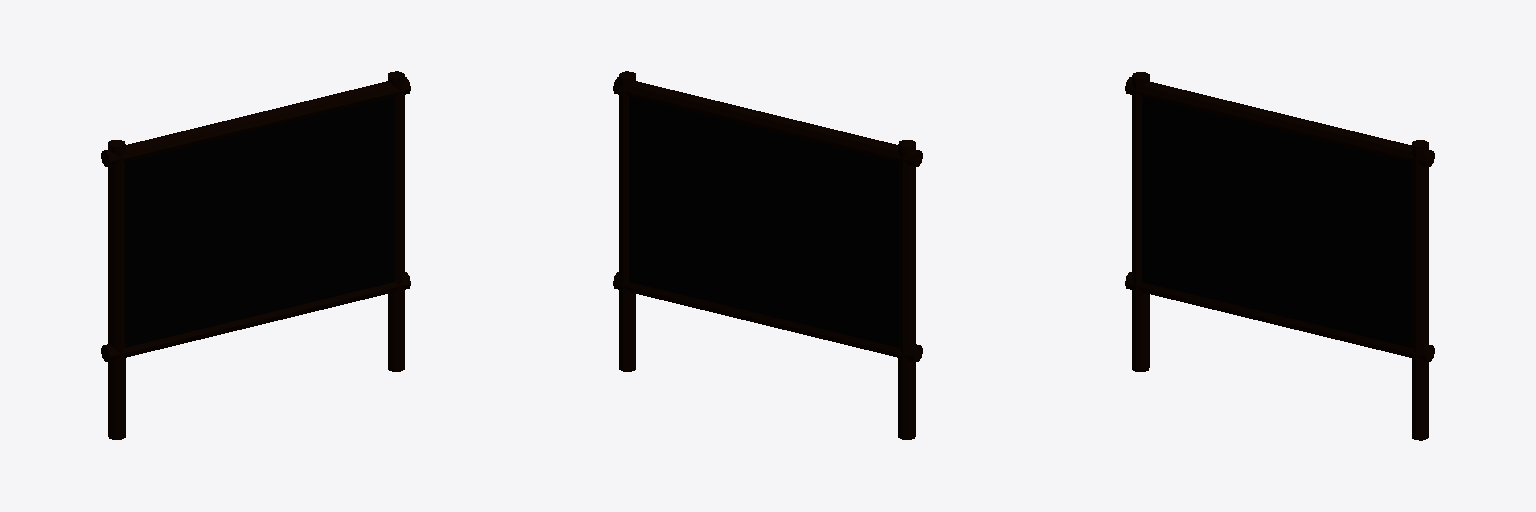
File: tafel.obj
3 renders of one model, left to right at view 1: azimuth 30°, elevation 25°; view 2: azimuth 150°, elevation 25°; view 3: azimuth 330°, elevation 25°, orthographic.
Parts seen in each view (by area): view 1: Cube, Cube.001; view 2: Cube, Cube.001; view 3: Cube, Cube.001.
Part boxes in pixels (x1,y1,x2,y2): Cube: (125,96,394,347); Cube.001: (101,71,410,439); Cube: (629,96,898,347); Cube.001: (613,71,922,439); Cube: (1142,97,1411,347); Cube.001: (1125,72,1434,440).
Size of the model in its own units: 4.34 by 4.04 by 0.2261.